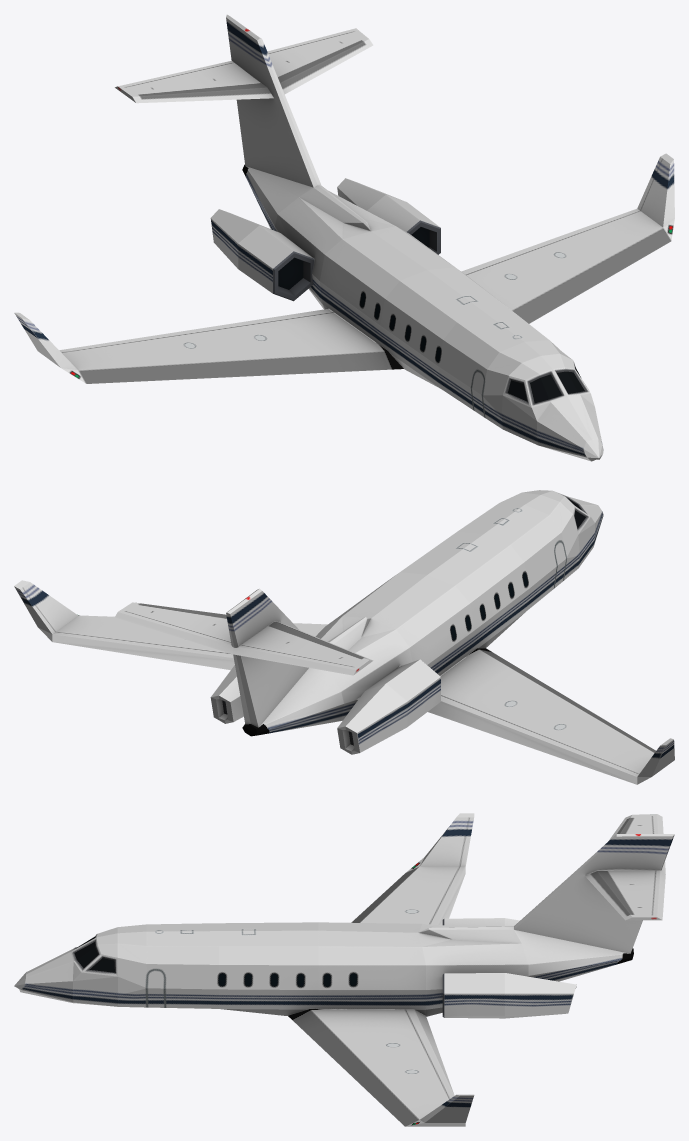
File: jet.glb
3 views of the same model, one above another, from view 1: azimuth 30°, elevation 25°; view 2: azimuth 150°, elevation 25°; view 3: azimuth 270°, elevation 25° (orthographic). The views are drawn at different scales.
Parts seen in each view (by area): view 1: Jet_mesh; view 2: Jet_mesh; view 3: Jet_mesh.
Part boxes in pixels (x1,y1,x2,y2): Jet_mesh: (14, 14, 674, 461); Jet_mesh: (14, 490, 674, 784); Jet_mesh: (14, 813, 674, 1126).
Bounding box in the file's own units: 8.68 × 2.47 × 8.58.
Materials: 1 (1 with a texture image).
